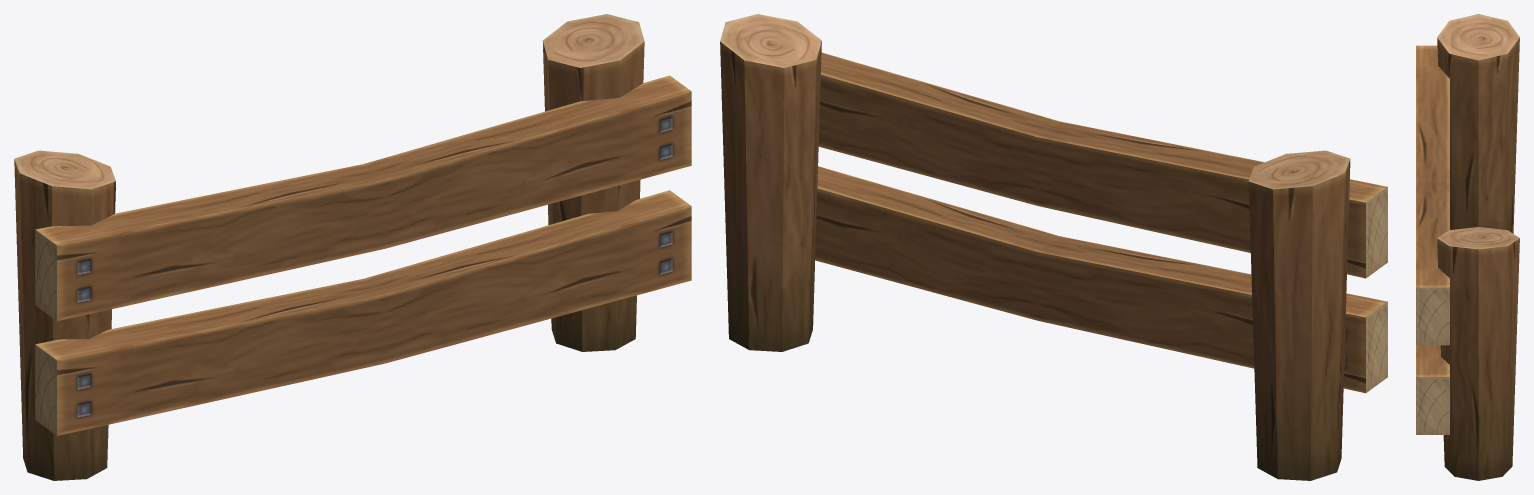
File: wooden_fence_22.fbx
The picture shows the model from 3 angles, left to right: view 1: azimuth 30°, elevation 25°; view 2: azimuth 150°, elevation 25°; view 3: azimuth 270°, elevation 25°; orthographic projection. The views are drawn at different scales.
Parts seen in each view (by area): view 1: wooden_fence_22:Mesh; view 2: wooden_fence_22:Mesh; view 3: wooden_fence_22:Mesh.
Part boxes in pixels (left/top/right/bottom): wooden_fence_22:Mesh: left=14, top=14, right=691, bottom=480; wooden_fence_22:Mesh: left=720, top=14, right=1387, bottom=480; wooden_fence_22:Mesh: left=1416, top=14, right=1519, bottom=480.
Size of the model in its own units: 6.53 by 2.96 by 1.19.
